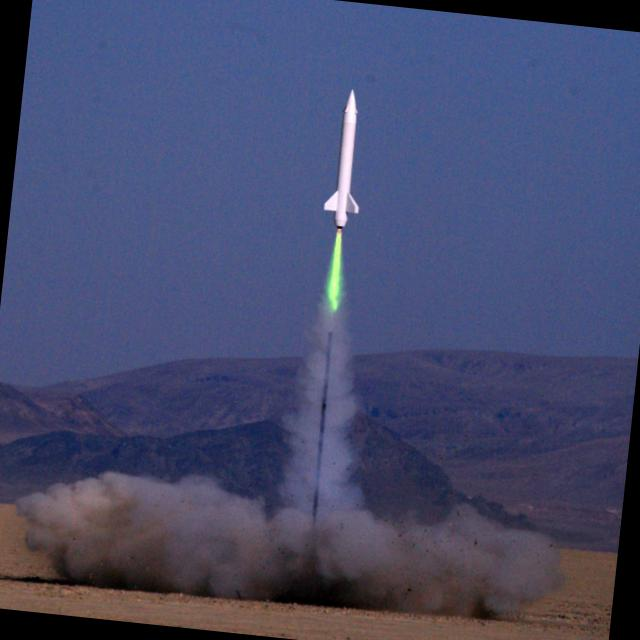rocket: (300, 88, 375, 356)
